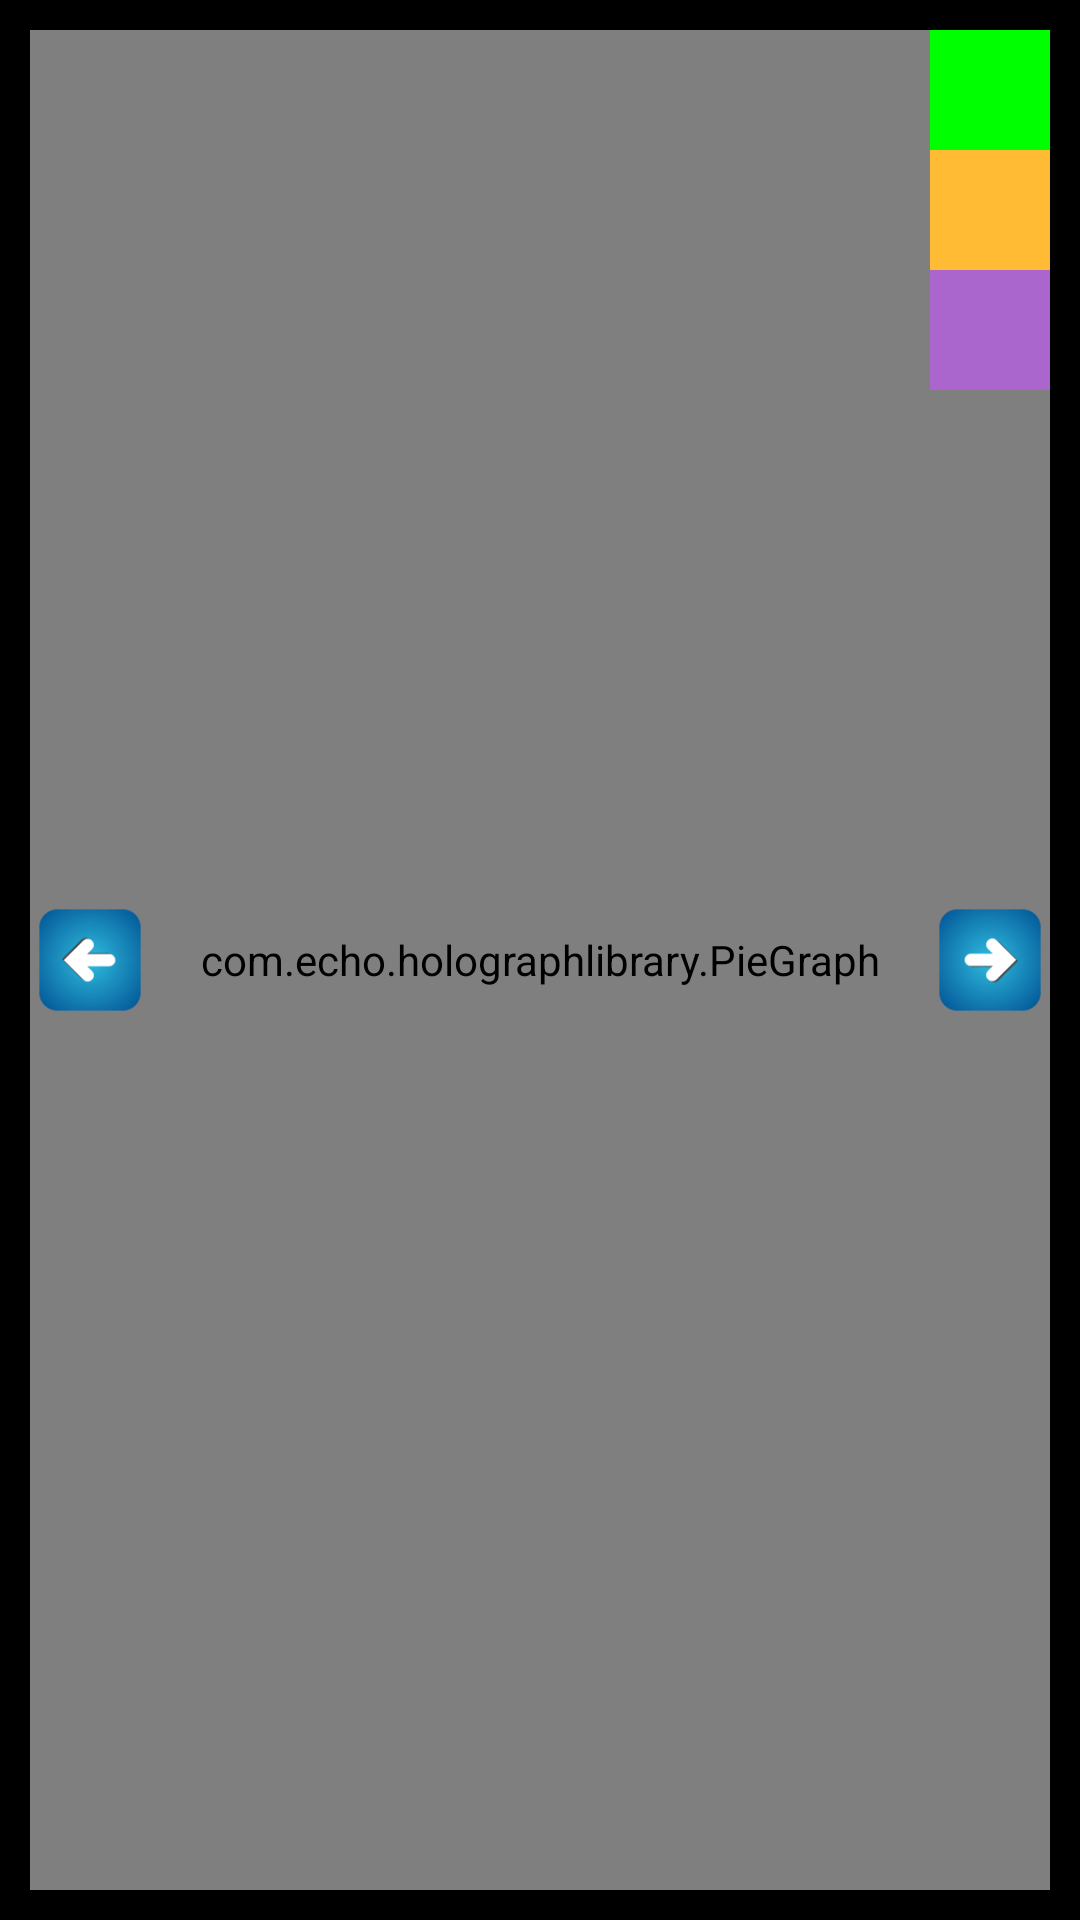

Named icons in this screenshot (1080×1920) and their centers, (x=x, y=y):
left: (x=90, y=960)
right: (x=990, y=960)
